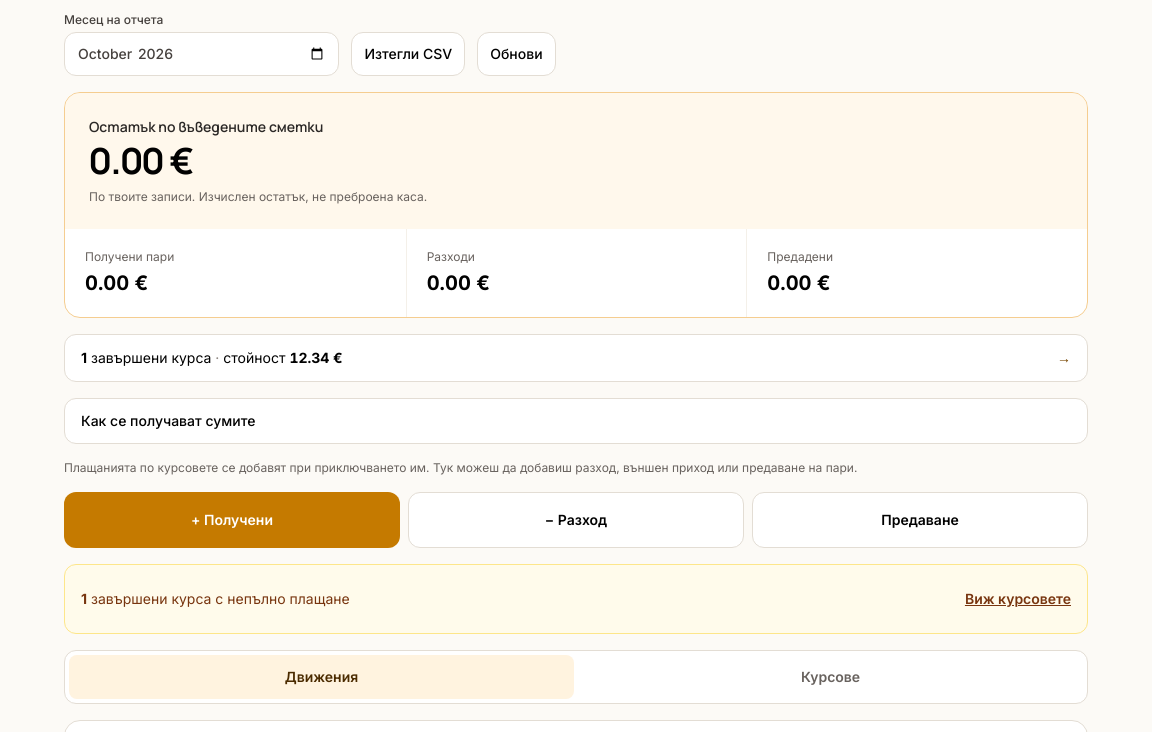
Scenario: does not replace an unavailable report with zero financial totals
This screenshot has width=1152, height=732.
Replace the text in the field labelled "Месец на отчета" with "2026-09" at (202, 54), box [64,32,339,76]
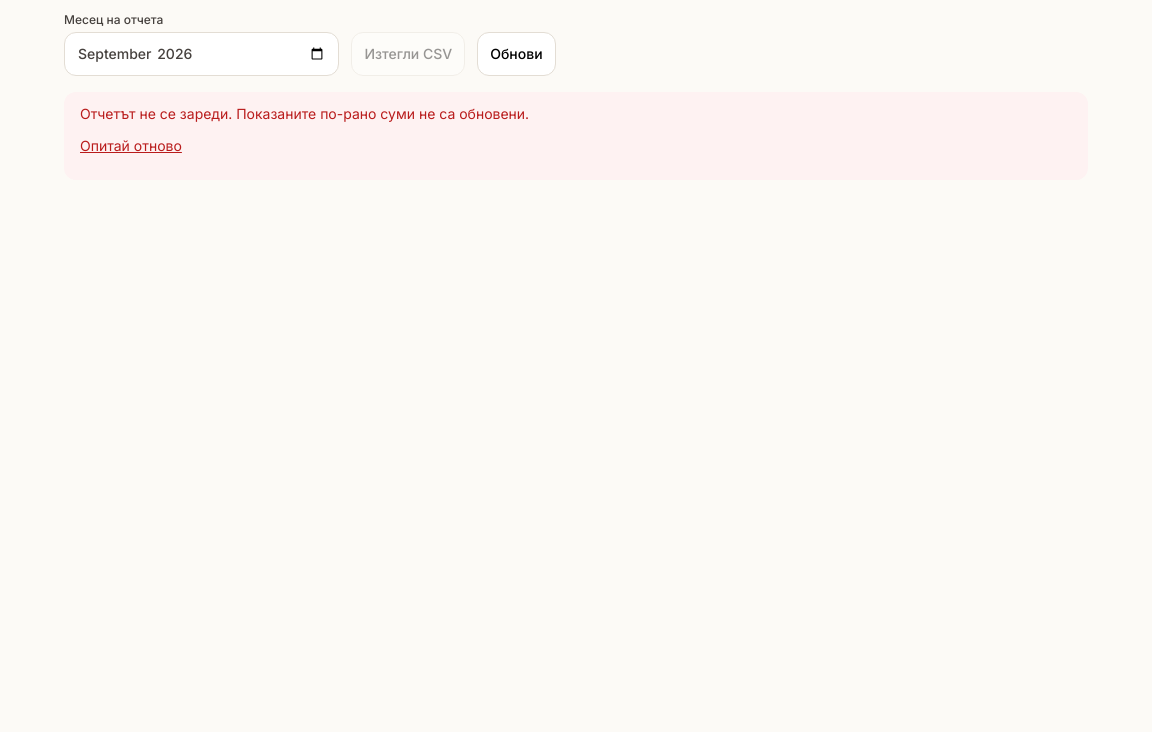
Expected: the message "Отчетът не се зареди. Показаните по-рано суми не са обновени. Опитай отново" is shown, [64,92,1088,180]
Expected: the heading "Остатък по въведените сметки" is gone
Expected: the button "Изтегли CSV" is disabled, [351,32,465,76]
